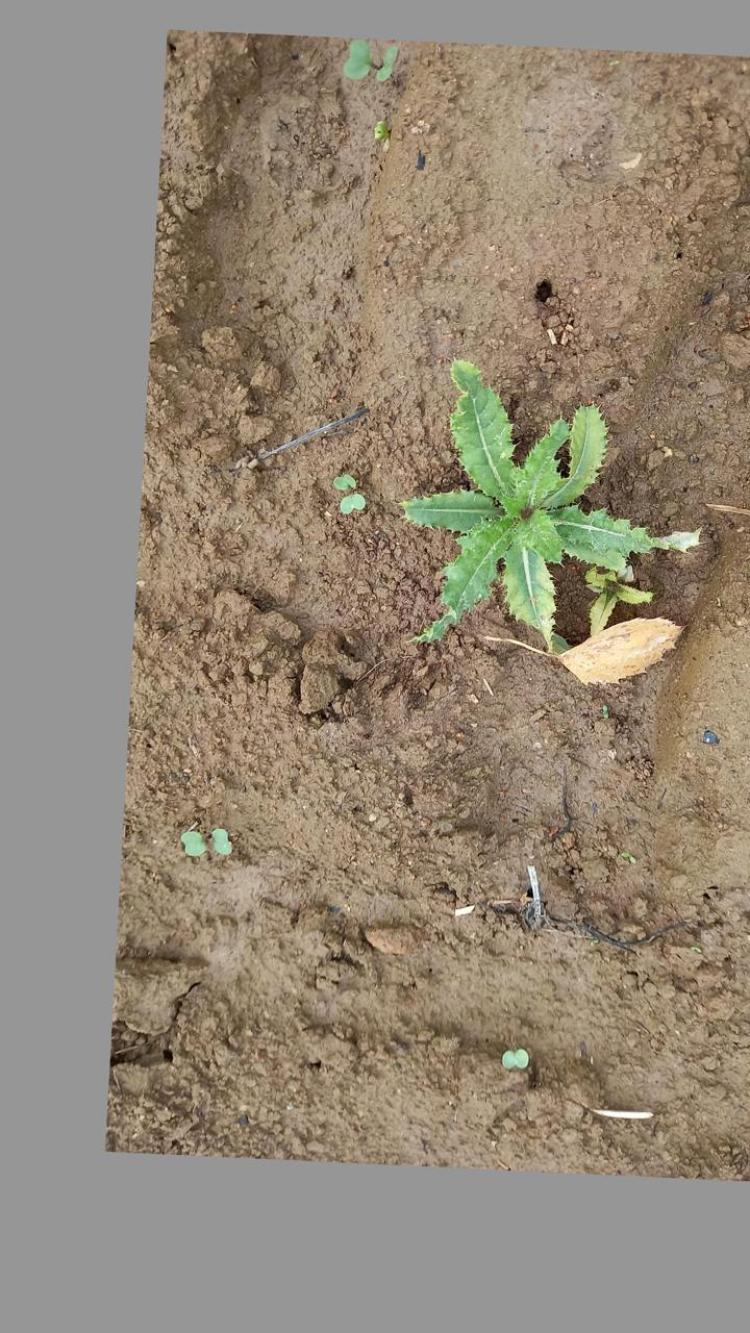bodyak: (408, 362, 721, 638)
